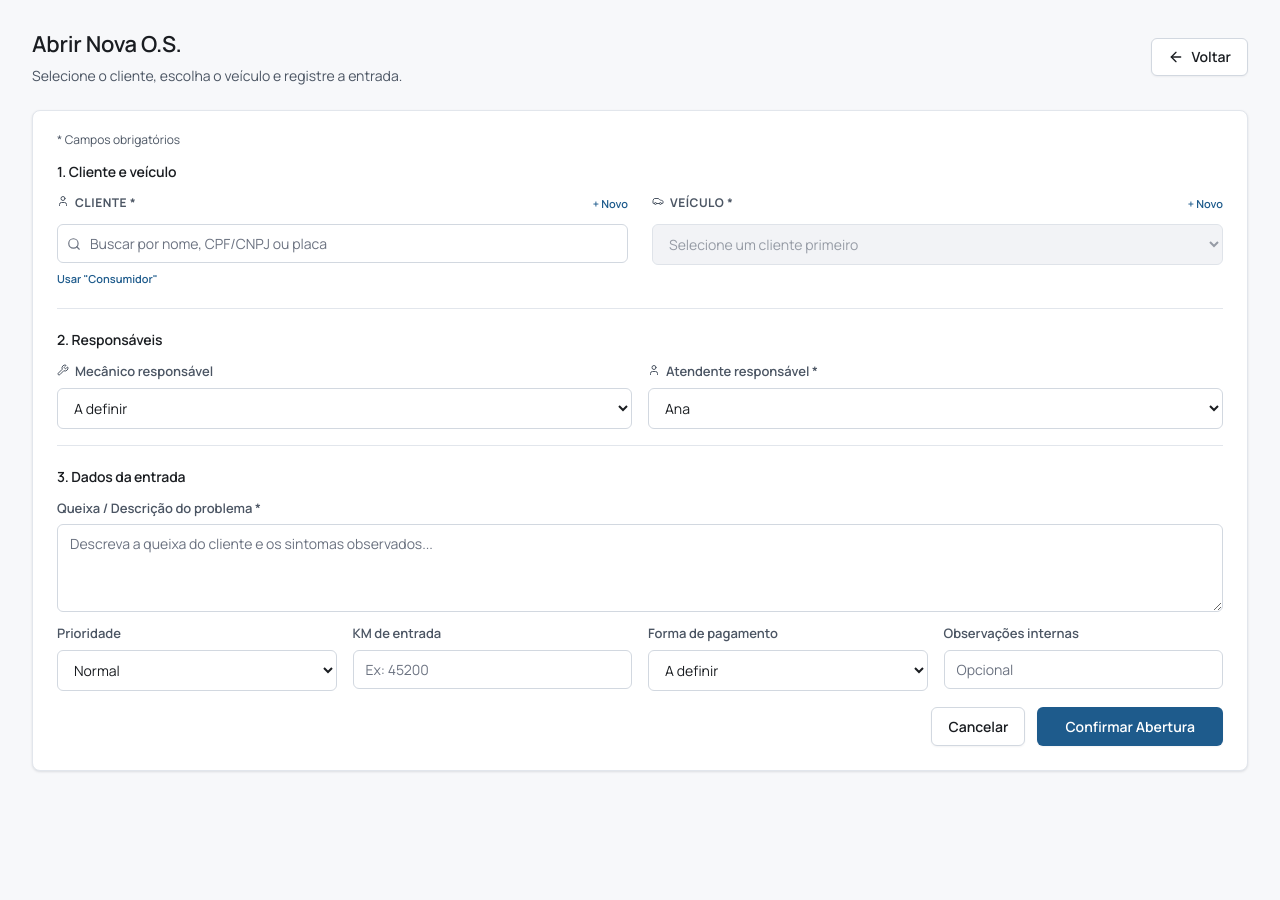
Test: Tela de Abrir O.S. › busca cliente por CPF
This screenshot has width=1280, height=900.
In the field named "Buscar cliente por nome": (342, 244) [57,224,628,263], type "98765432100"
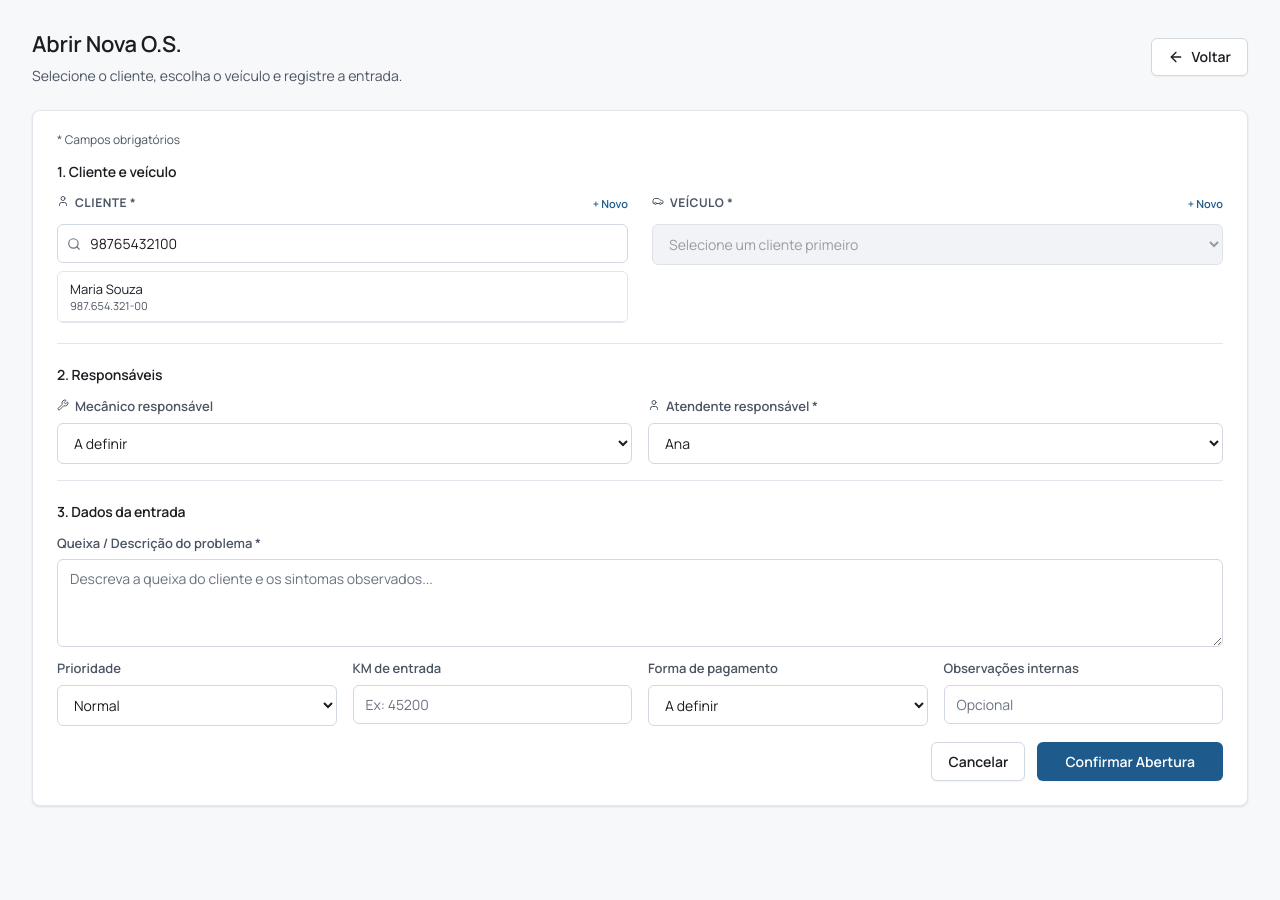
Result: the button "Maria Souza 987.654.321-00" is shown at [58,272,627,322]
